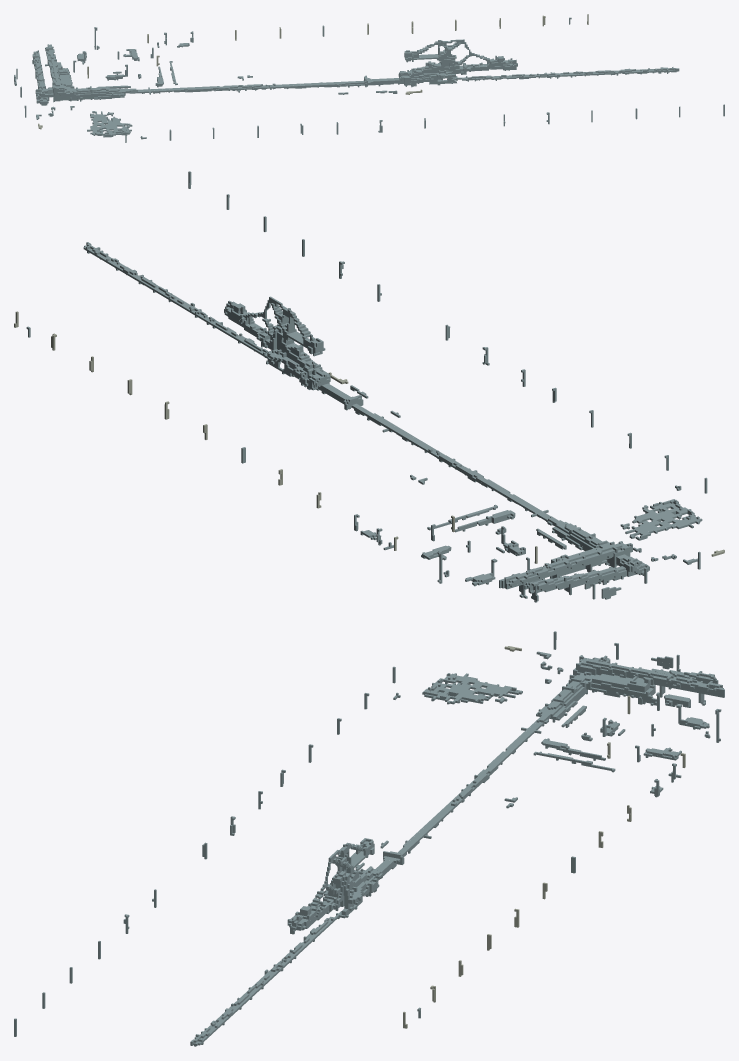
3 views of the same model, one above another, from view 1: azimuth 30°, elevation 25°; view 2: azimuth 150°, elevation 25°; view 3: azimuth 270°, elevation 25° (orthographic). The views are drawn at different scales.
Parts seen in each view (by area): view 1: measured-industrial; view 2: measured-industrial; view 3: measured-industrial.
Boxes of the visible parts, x1,y1,x2,y2 form: measured-industrial: (14,14,724,142); measured-industrial: (14,171,724,602); measured-industrial: (14,631,724,1046).
Size of the model in its own units: 444 by 35.17 by 332.
